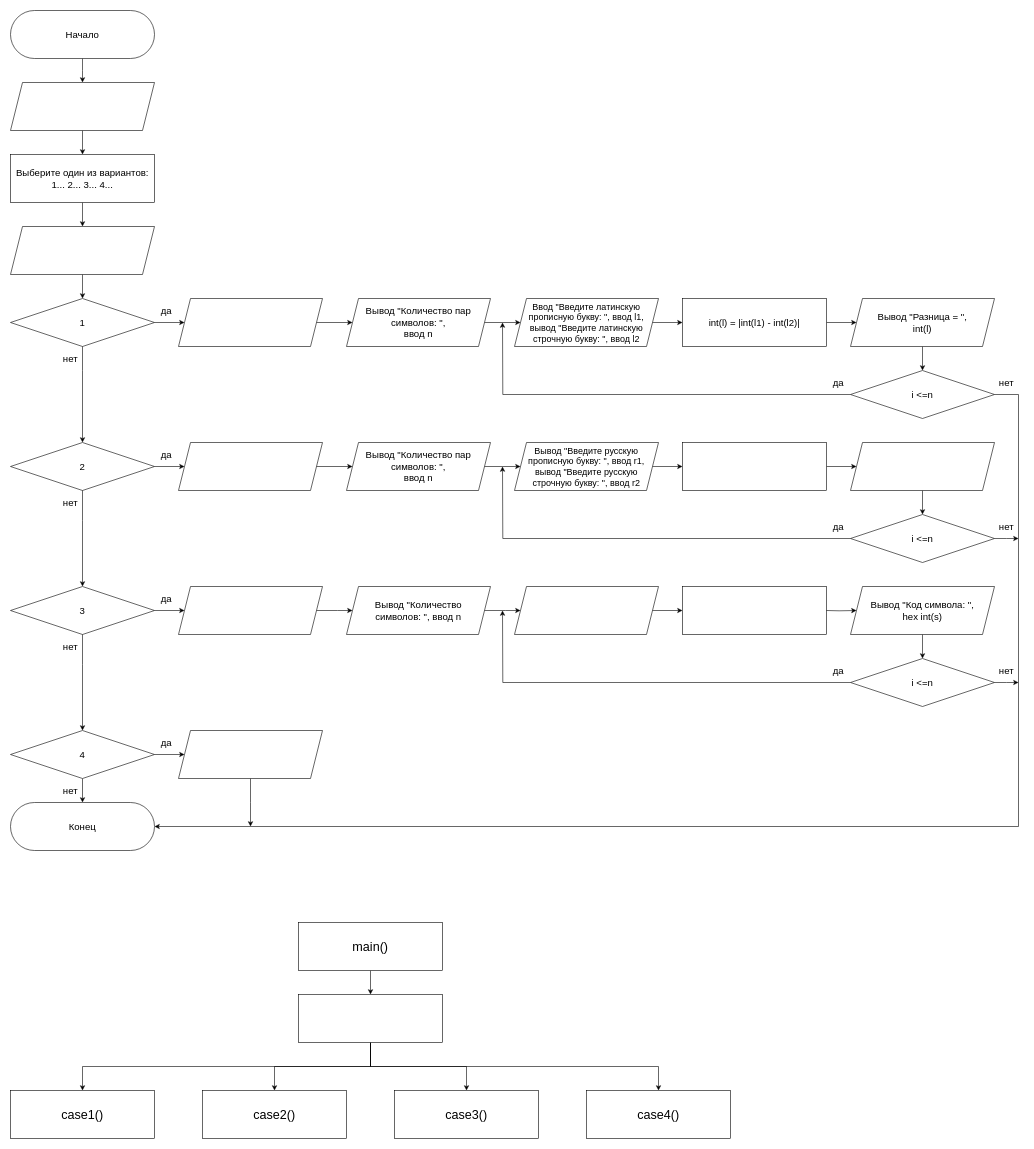
The diagram is 1034 pixels wide and 1149 high, and some of its shapes have lost their labels. The shapes that lost their labels are listed below. From the top down, each one's box as (x1, y1, x2, y2) in pixels, then its label:
(10, 82, 154, 130): Ввод k
(10, 226, 154, 274): Ввод числа (1-4)
(178, 298, 322, 346): Ввод l, l1, l2, i
(178, 442, 322, 490): Ввод r1, r2, i
(682, 442, 826, 490): r2 = r1 - 'a' + 'A'
(850, 442, 994, 490): Вывод "Разница = ", int('a' - 'A')
(178, 586, 322, 634): Ввод symbol, c, s, i
(514, 586, 658, 634): Вывод "Введите цифру: ", ввод c
(682, 586, 826, 634): s = c
(178, 730, 322, 778): Вывод "Завершение..."
(298, 994, 442, 1042): switch
